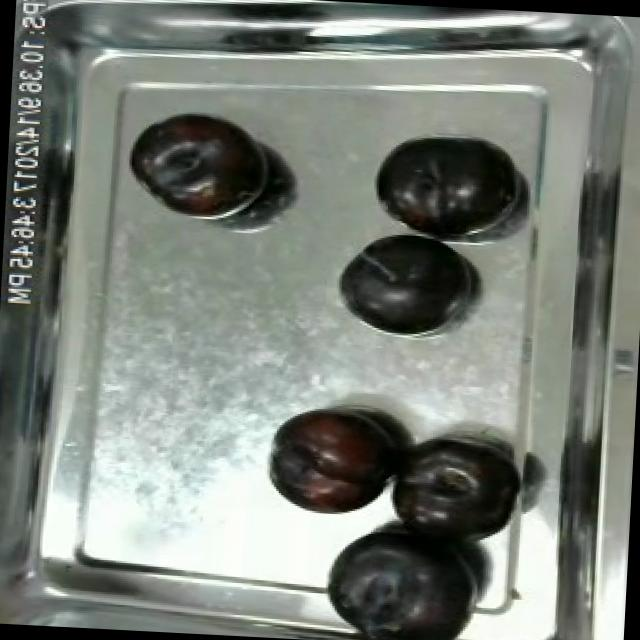Fruit: (318, 514, 495, 640), (366, 125, 521, 246), (124, 105, 279, 224), (260, 400, 405, 522), (378, 428, 528, 544), (332, 225, 473, 338)
